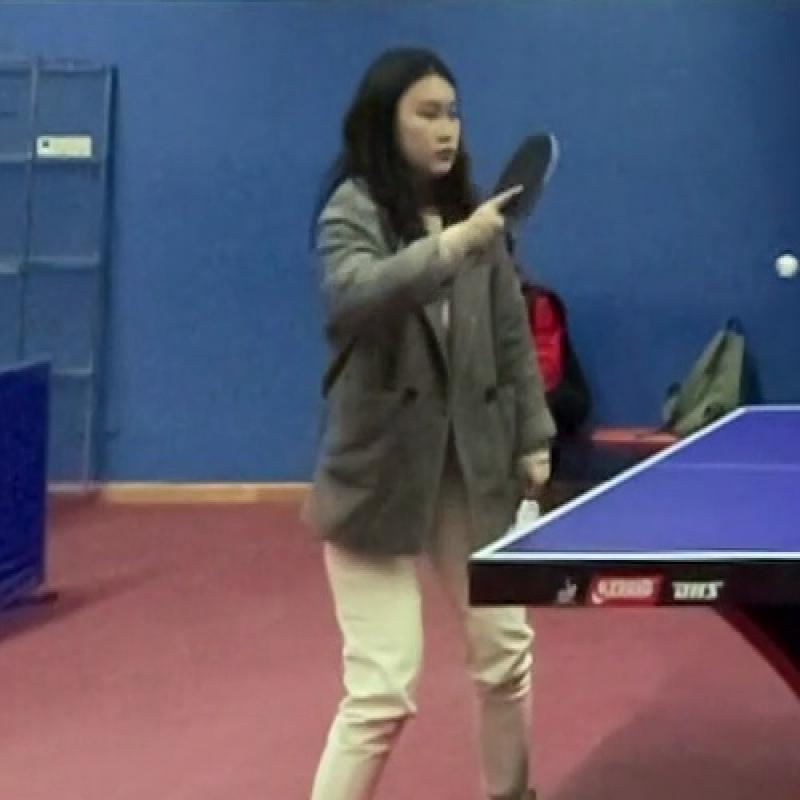bats: (464, 107, 574, 264)
